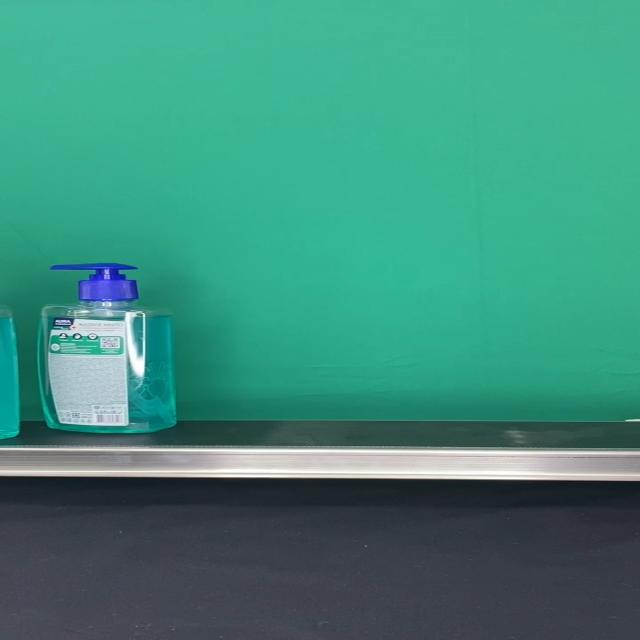Bottle: (38, 263, 177, 433)
Cap: (48, 263, 139, 301)
